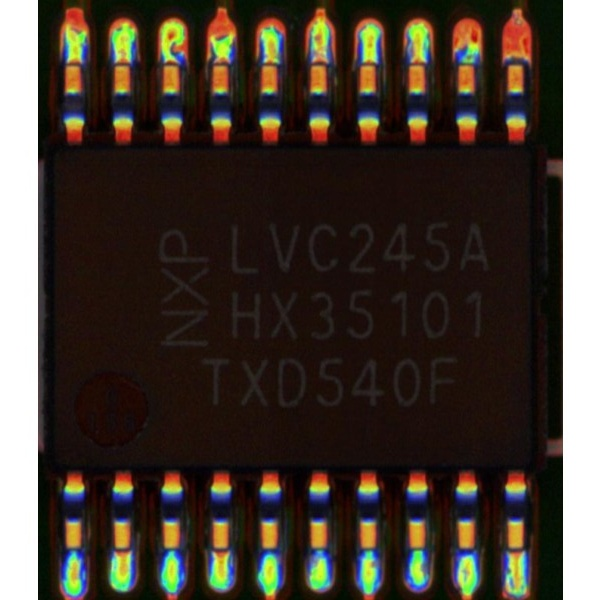Bad_podu: (113, 534, 129, 576), (508, 533, 521, 583), (212, 532, 225, 576), (313, 35, 324, 81), (412, 35, 422, 81), (115, 46, 127, 80), (265, 42, 276, 79)
